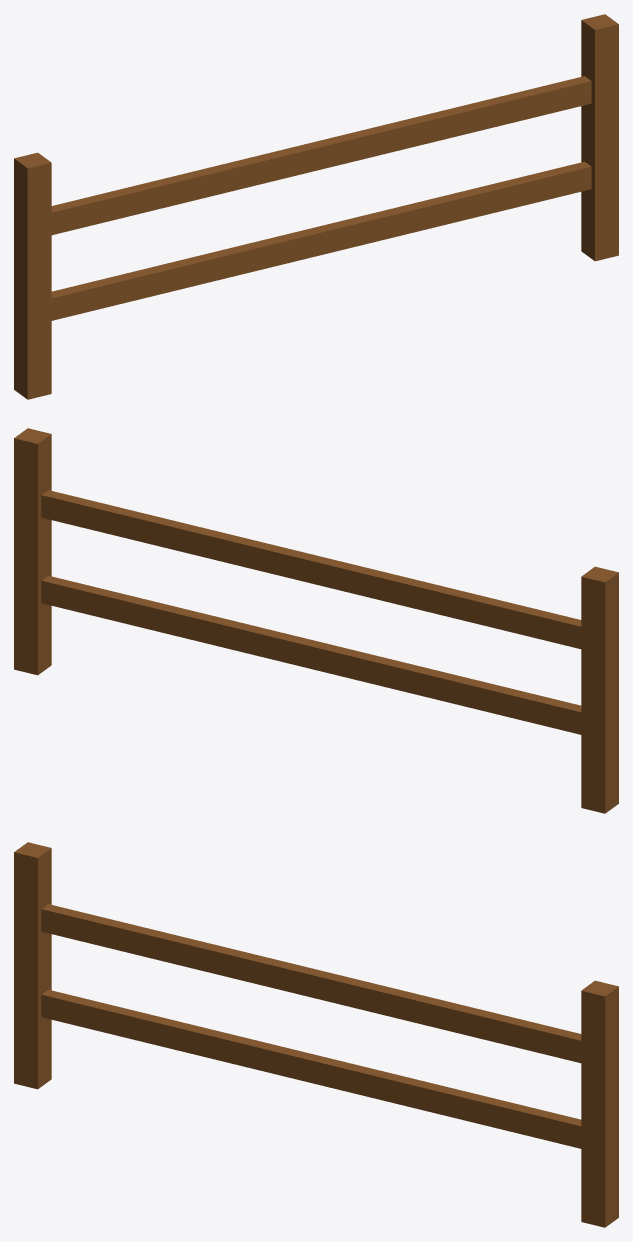
File: fence_01.glb
3 views of the same model, one above another, from view 1: azimuth 30°, elevation 25°; view 2: azimuth 150°, elevation 25°; view 3: azimuth 330°, elevation 25° (orthographic).
Visible parts, largest first — view 1: fence_01; view 2: fence_01; view 3: fence_01.
Boxes of the visible parts, x1=… form: fence_01: x1=14, y1=14, x2=618, y2=399; fence_01: x1=14, y1=428, x2=618, y2=813; fence_01: x1=14, y1=842, x2=618, y2=1227.
Bounding box in the file's own units: 2.47 × 0.9233 × 0.1.
